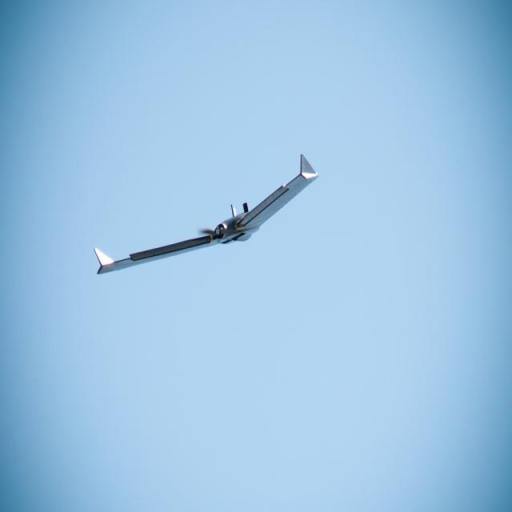uav: (89, 153, 319, 277)
